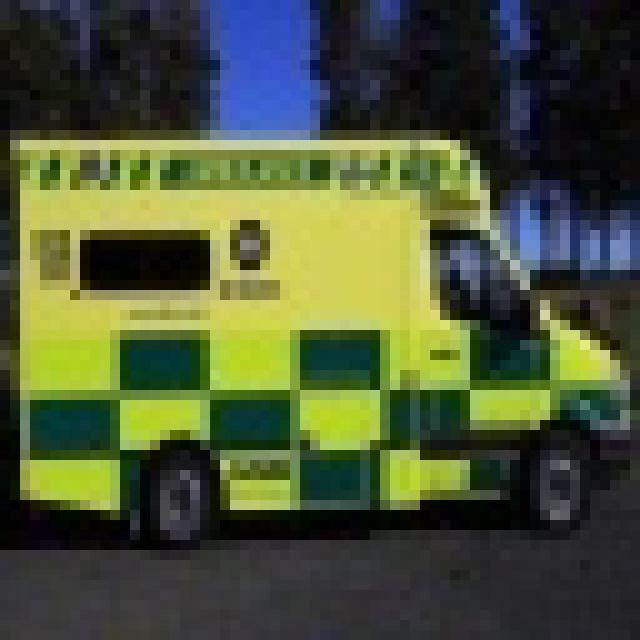Ambulance: (0, 130, 630, 540)
